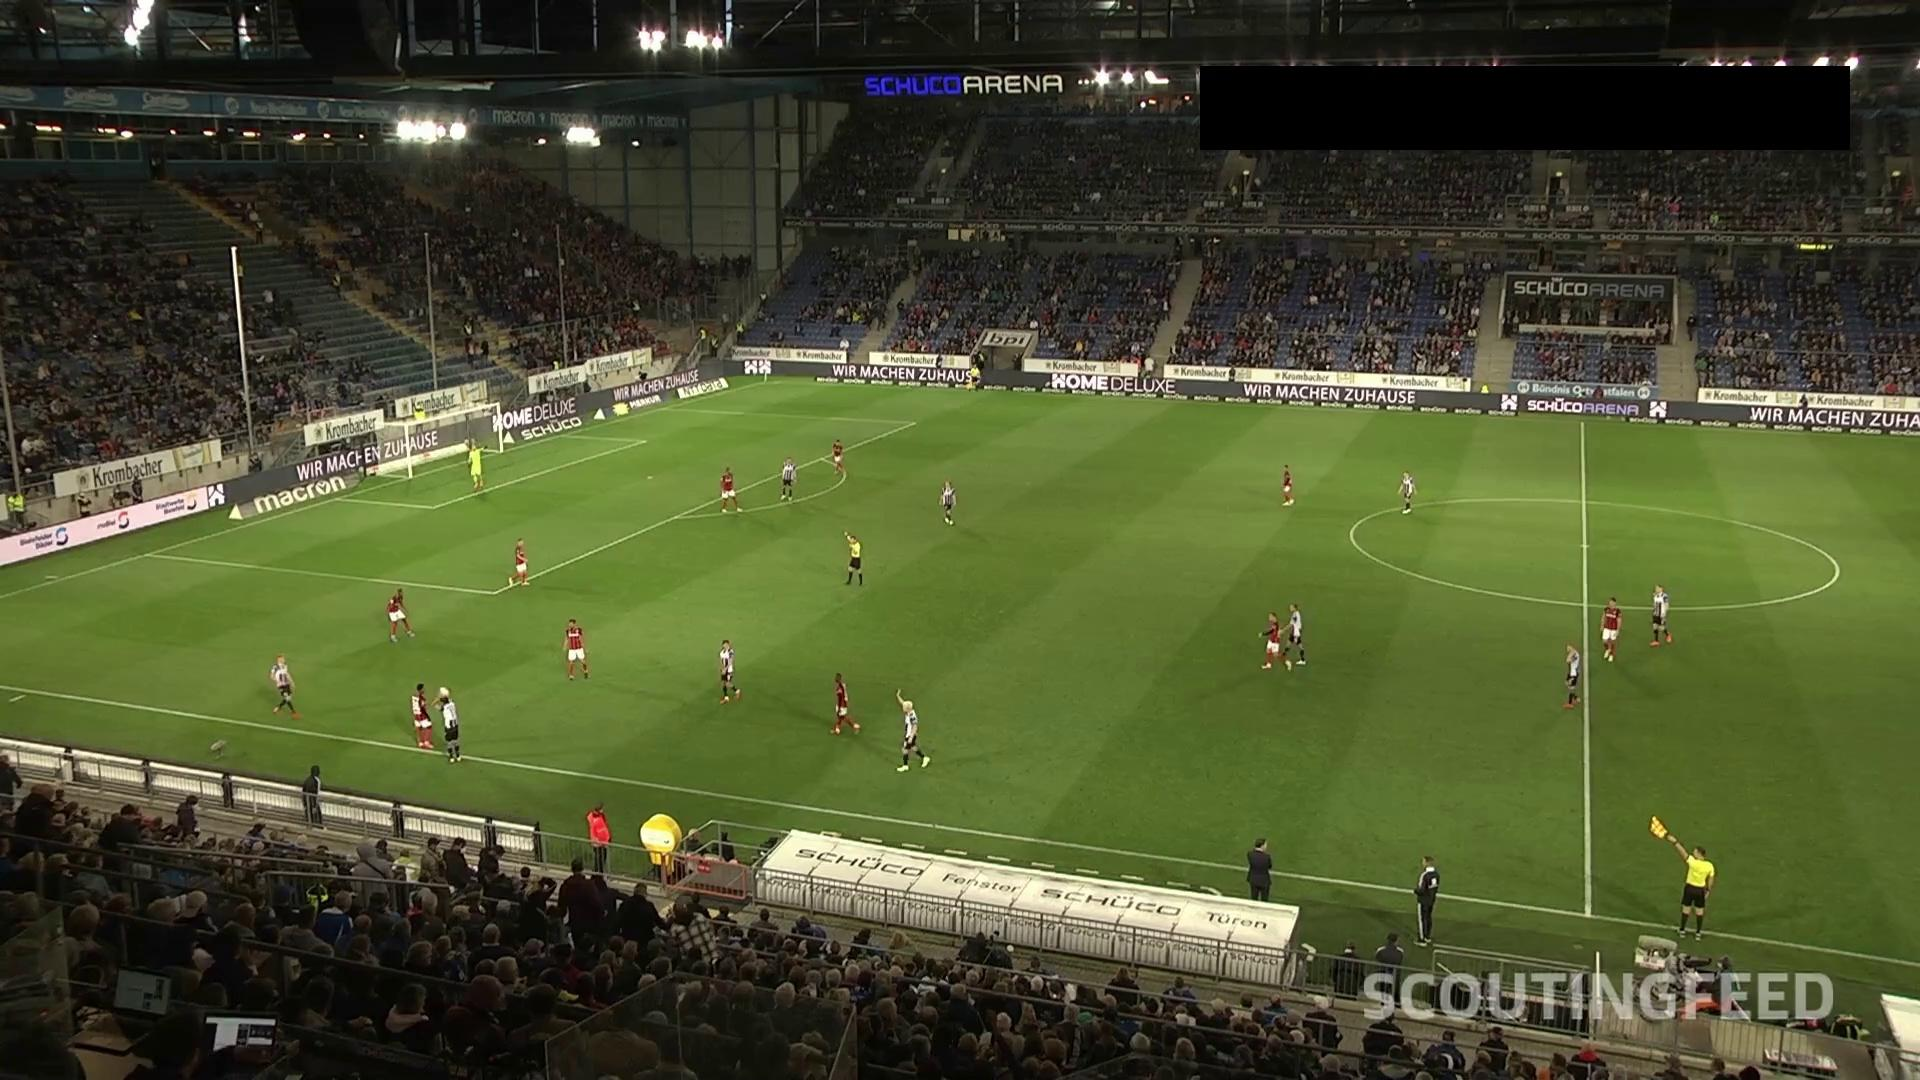Location-of-ball: (439, 682, 465, 696)
